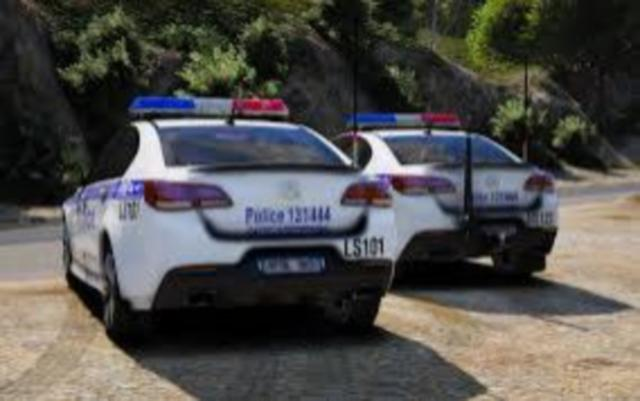police: (56, 95, 399, 336), (286, 113, 561, 284)
